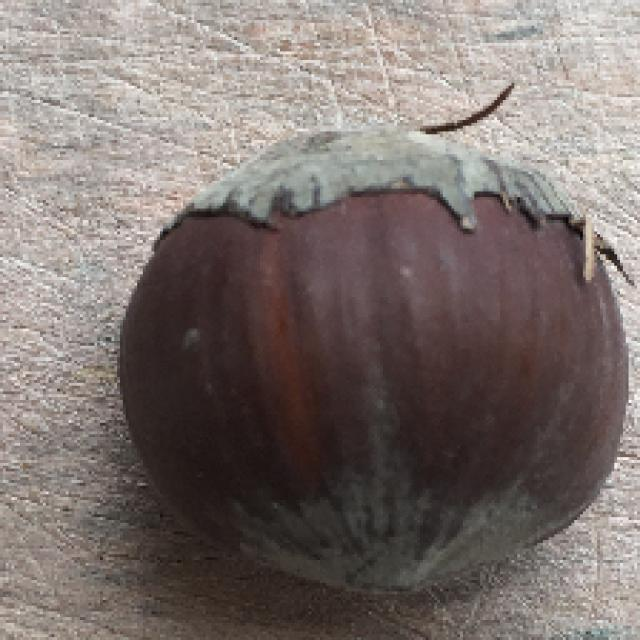damagedHazelnut: (123, 117, 630, 622)
